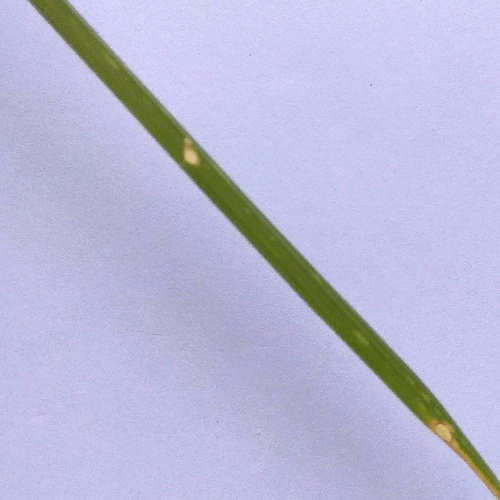Busuk Leher: (174, 132, 206, 173), (432, 411, 458, 449)
